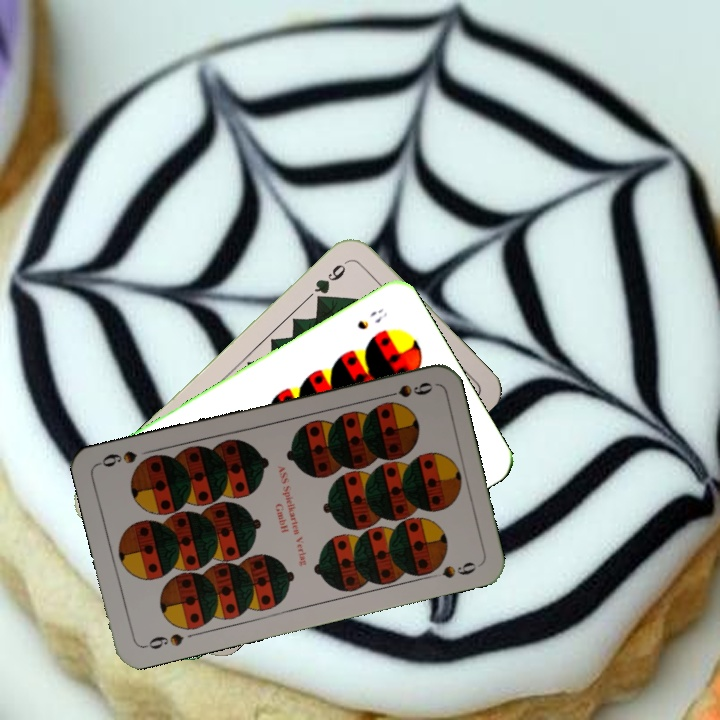G9: (310, 255, 352, 307)
S8: (353, 304, 391, 333)
S9: (377, 378, 435, 401), (139, 629, 186, 652)
